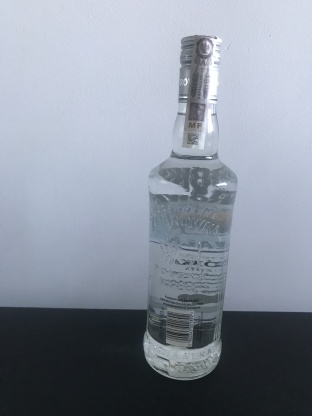nakretka: (176, 29, 225, 105)
